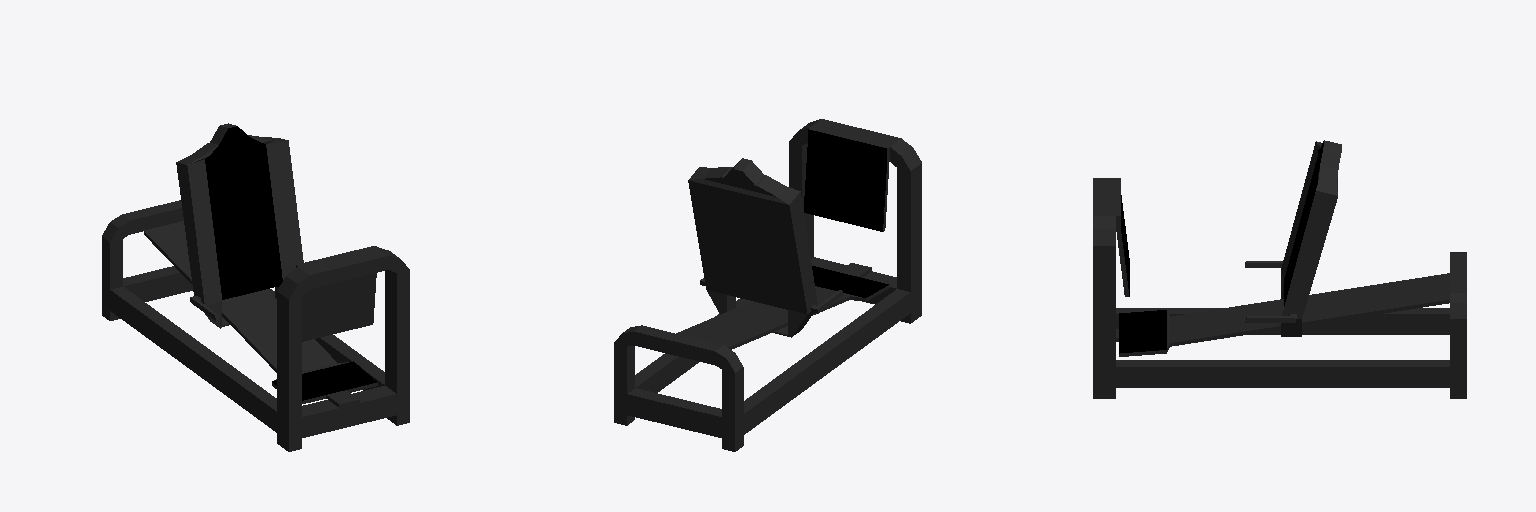
The model's file is Beinpresse.obj.
3 views of the same model, side by side, from view 1: azimuth 30°, elevation 25°; view 2: azimuth 150°, elevation 25°; view 3: azimuth 270°, elevation 25° (orthographic).
Parts seen in each view (by area): view 1: Cube, Cube.001; view 2: Cube, Cube.001; view 3: Cube, Cube.001.
Part boxes in pixels (bbox=[...]): Cube: bbox=[102, 200, 409, 451]; Cube.001: bbox=[176, 123, 303, 328]; Cube: bbox=[614, 119, 921, 451]; Cube.001: bbox=[688, 158, 842, 337]; Cube: bbox=[1093, 178, 1466, 398]; Cube.001: bbox=[1245, 140, 1341, 336].
Size of the model in its own units: 0.6 by 1.07 by 1.6.